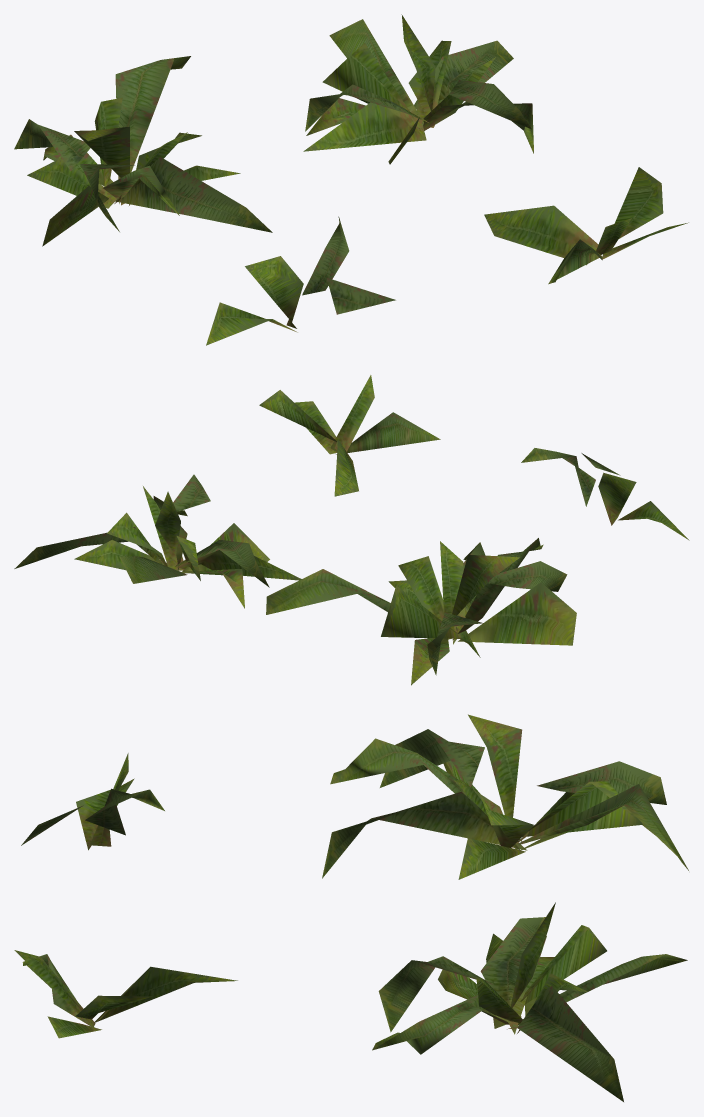
The model's file is fern_02.glb.
The picture shows the model from 3 angles, top to bottom: view 1: azimuth 30°, elevation 25°; view 2: azimuth 150°, elevation 25°; view 3: azimuth 270°, elevation 25°; orthographic projection. The views are drawn at different scales.
Parts seen in each view (by area): view 1: fern_02_b; view 2: fern_02_b; view 3: fern_02_b.
Boxes of the visible parts, x1,y1,x2,y2 form: fern_02_b: (14,14,688,345); fern_02_b: (14,375,689,685); fern_02_b: (14,714,688,1101).
Bounding box in the file's own units: 1.78 × 0.3349 × 1.6.
1 material, 1 textured.
